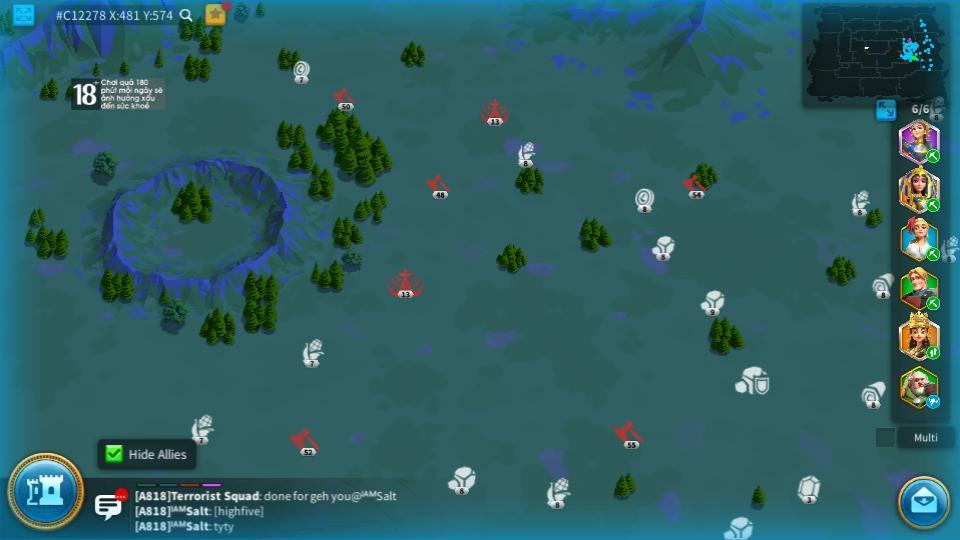gem-z-out: (796, 475, 822, 503)
march_farming: (924, 197, 939, 212)
march_idle: (925, 396, 942, 408)
march_marching: (925, 345, 941, 359), (925, 297, 942, 310), (925, 150, 941, 162)
